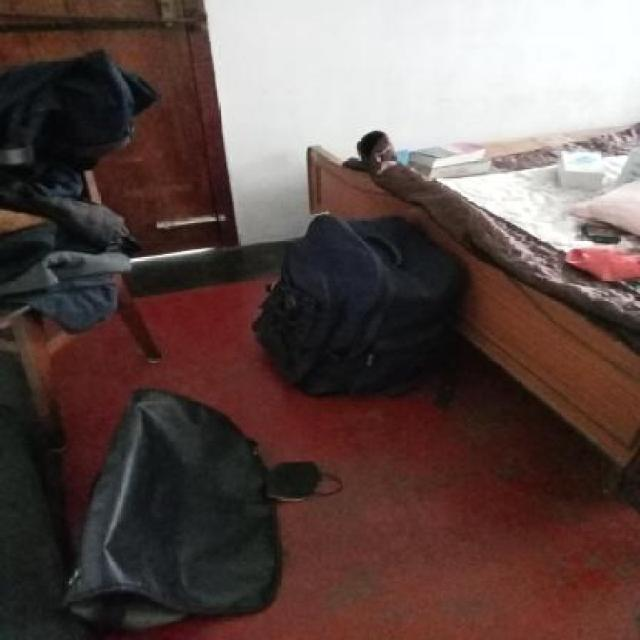backpack: (247, 209, 478, 406)
